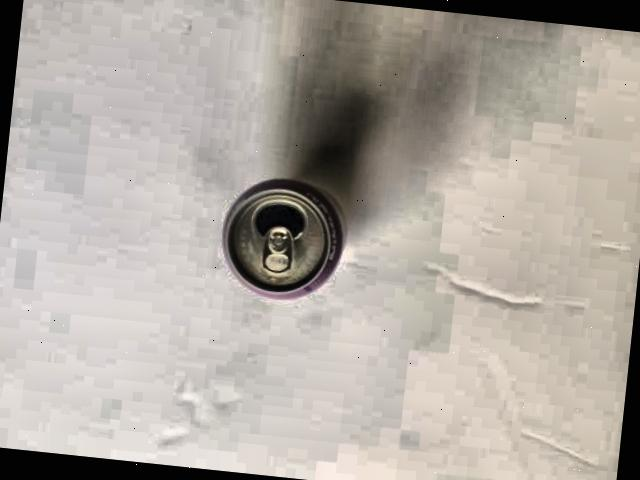Bottles: (206, 162, 366, 314)
